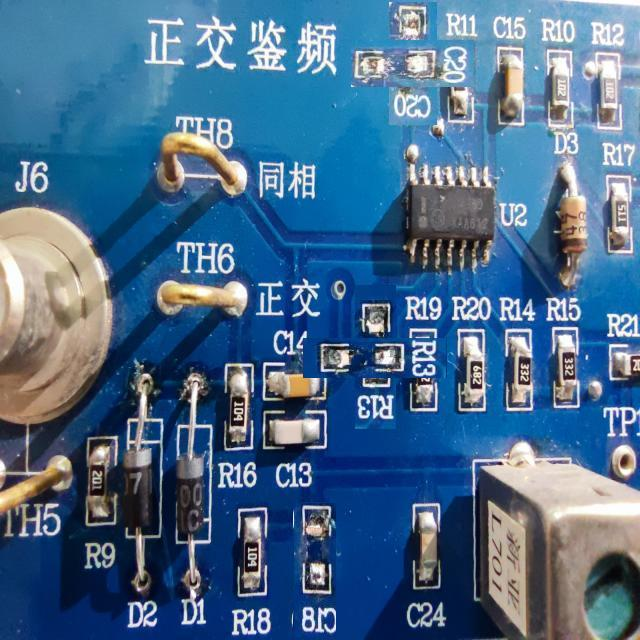miss_welding: (329, 311, 422, 404), (370, 21, 456, 106), (293, 502, 336, 637)
